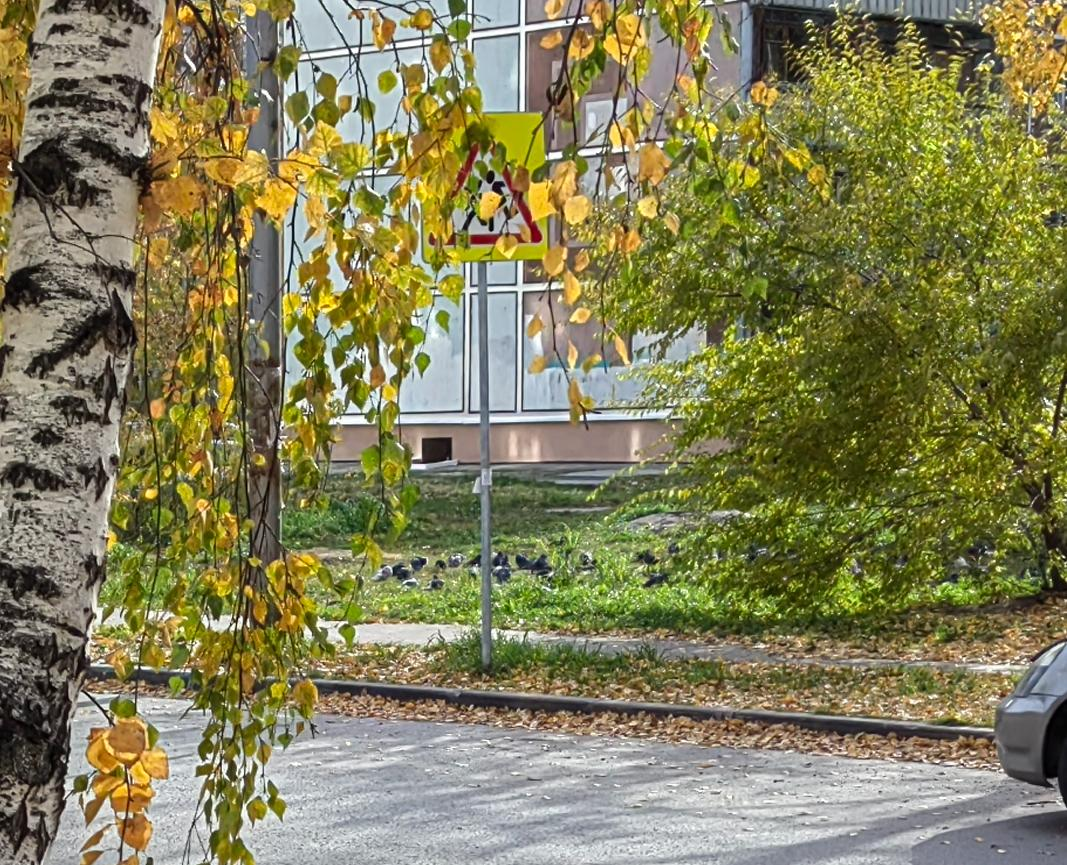obstructed_road_sign: (423, 114, 547, 261)
